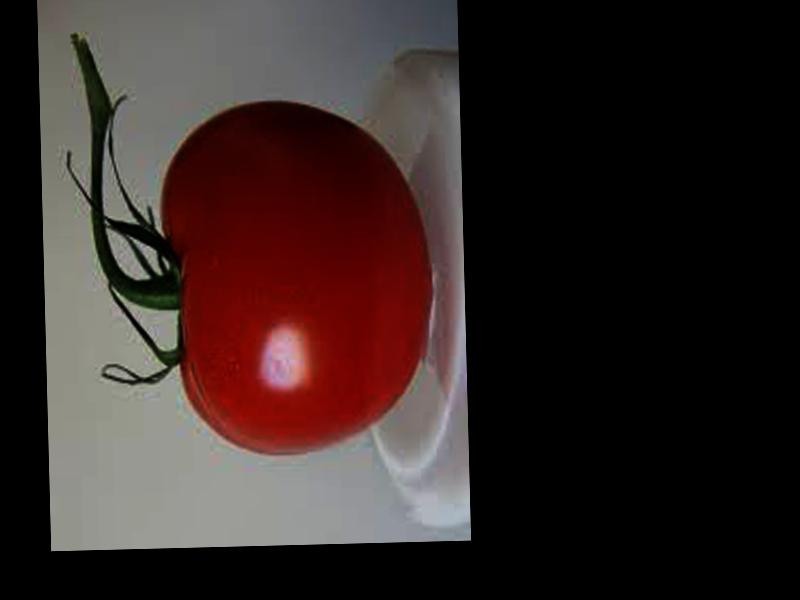Tomato: (159, 96, 434, 457)
